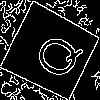Q: (25, 26, 85, 84)
